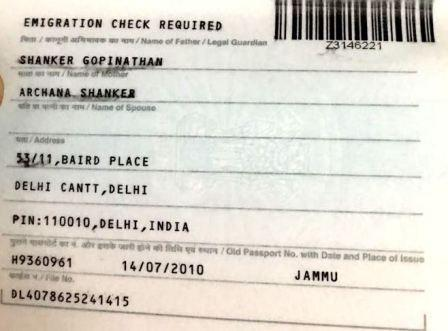File_no: (7, 282, 133, 308)
address: (8, 145, 214, 237)
father_name: (20, 11, 230, 34)
mother_name: (16, 47, 165, 68)
passport_no: (320, 36, 386, 53)
place_of_issue: (6, 249, 372, 295)
spouse_name: (15, 81, 142, 102)
